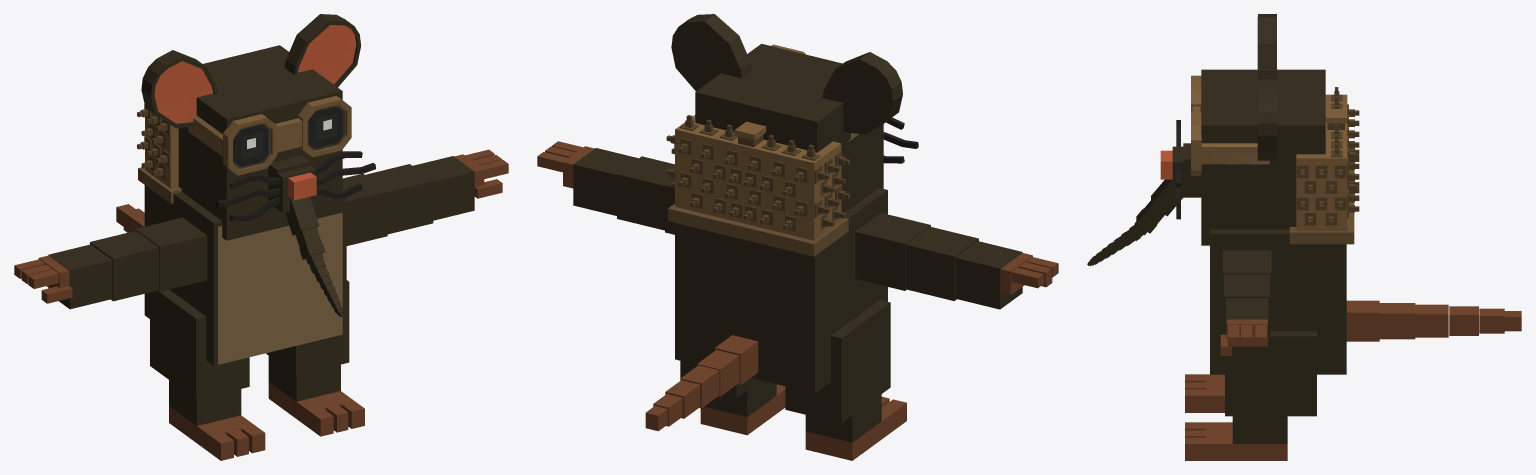
The model's file is talpaDiFero.fbx.
3 renders of one model, left to right at view 1: azimuth 30°, elevation 25°; view 2: azimuth 150°, elevation 25°; view 3: azimuth 270°, elevation 25°, orthographic. The views are drawn at different scales.
Parts seen in each view (by area): view 1: talpaDiFero; view 2: talpaDiFero; view 3: talpaDiFero.
Part boxes in pixels (bbox=[...]): talpaDiFero: bbox=[14, 14, 508, 460]; talpaDiFero: bbox=[537, 14, 1058, 460]; talpaDiFero: bbox=[1087, 14, 1521, 460].
Bounding box in the file's own units: 819 × 622 × 656.
